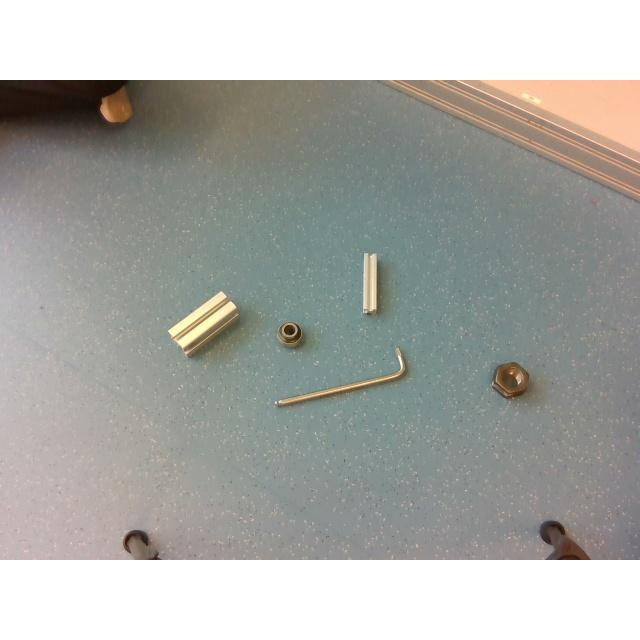AllenKey: (275, 346, 407, 406)
Bearing2: (278, 321, 302, 344)
F20_20_G: (362, 252, 378, 312)
M30: (492, 362, 528, 398)
S40_40_G: (170, 292, 238, 356)
